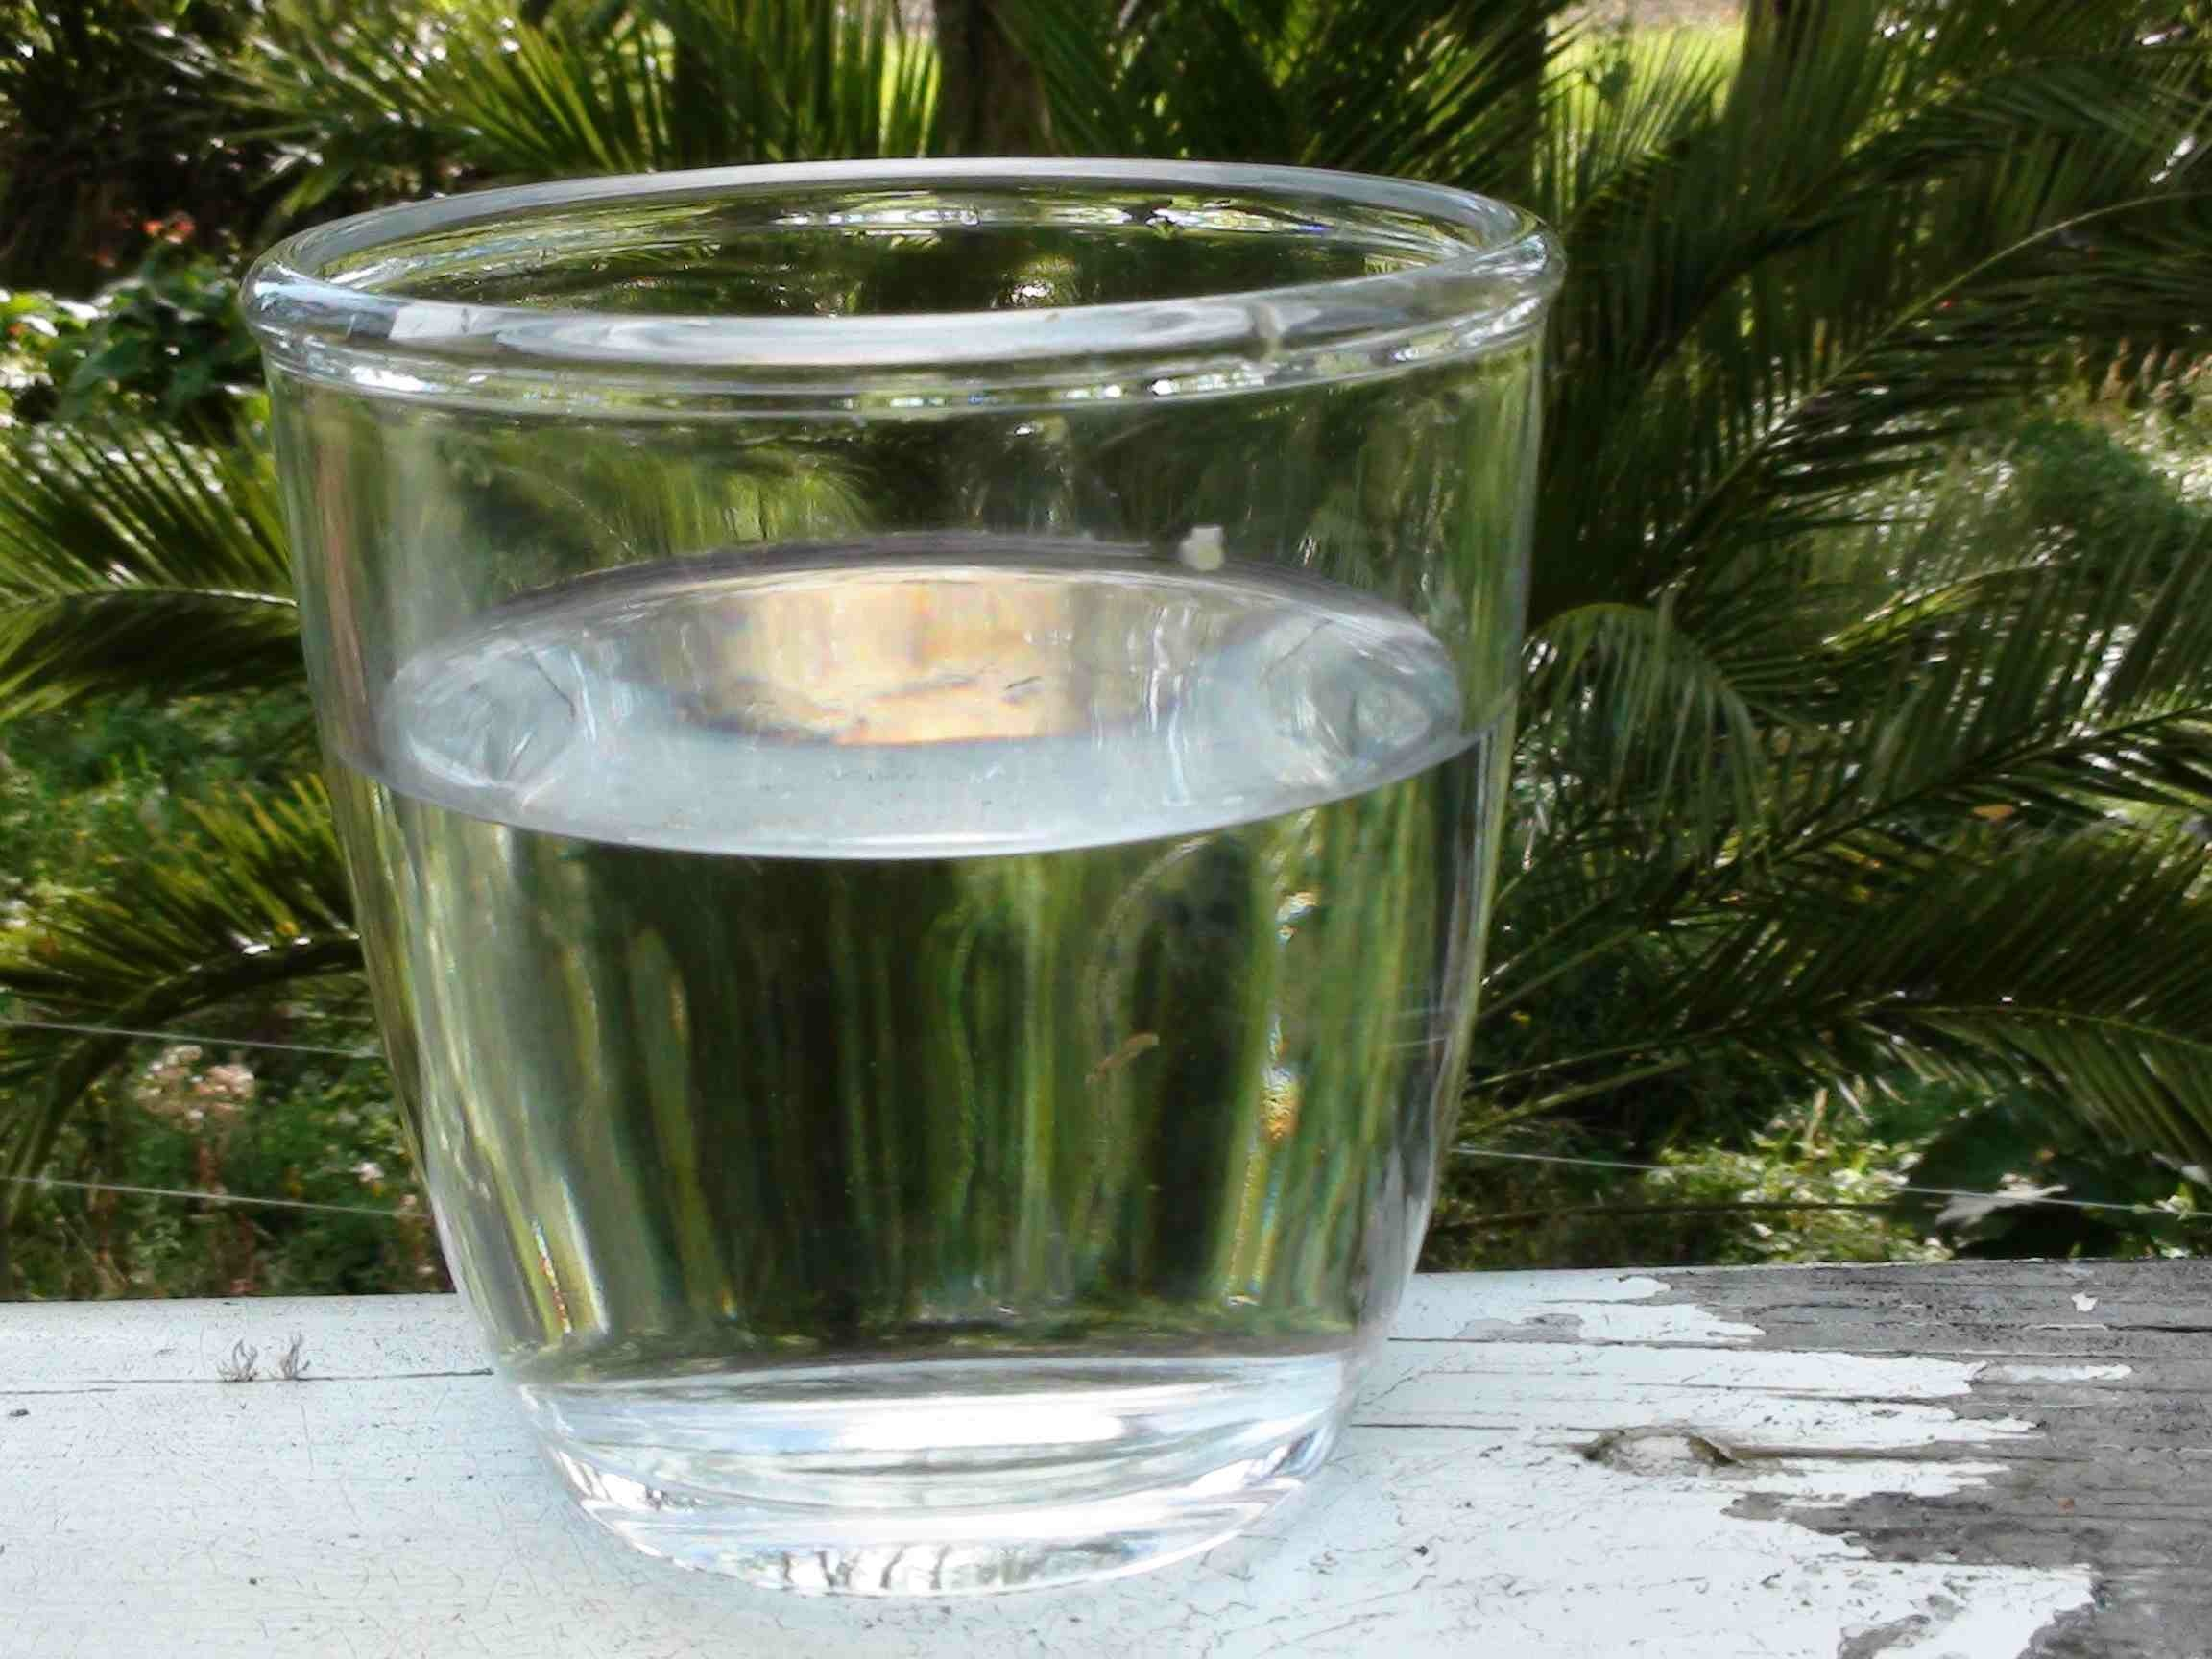glass of water: (416, 293, 1404, 1490)
